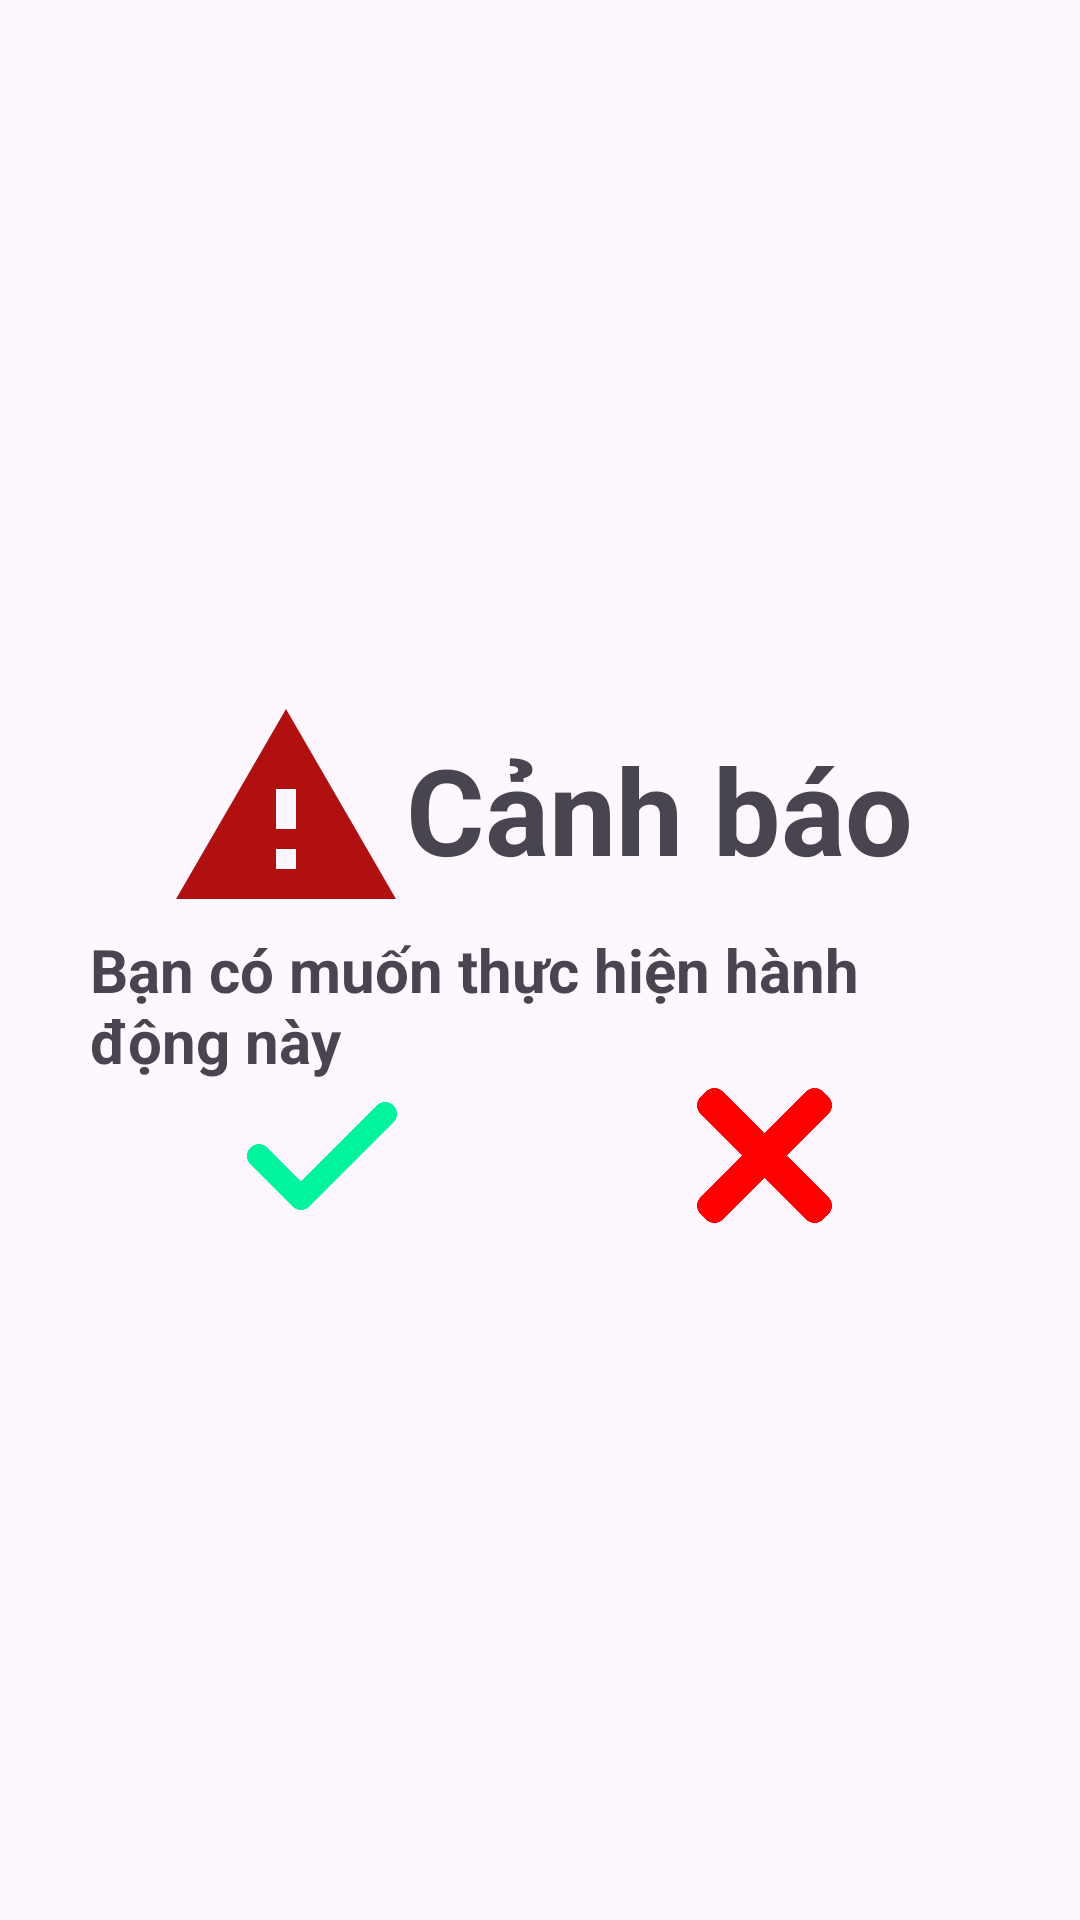

Point at icon controls on the screen. Image size 1080*1920, points as (x,y).
check: (322,1156)
close: (764,1155)
warning: (286,804)
